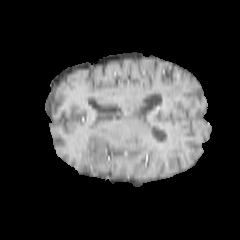glioma: (83, 128, 142, 168)
